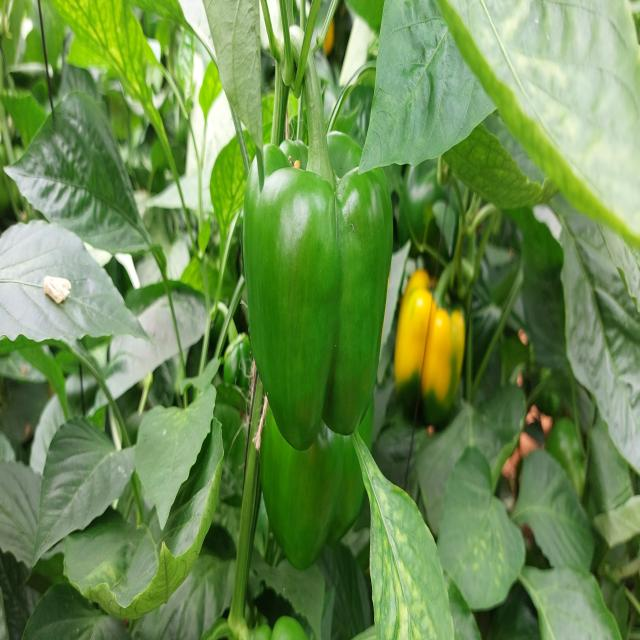Green--Not-ready-to-harvest: (248, 140, 387, 430), (266, 442, 375, 574), (402, 256, 469, 434)
